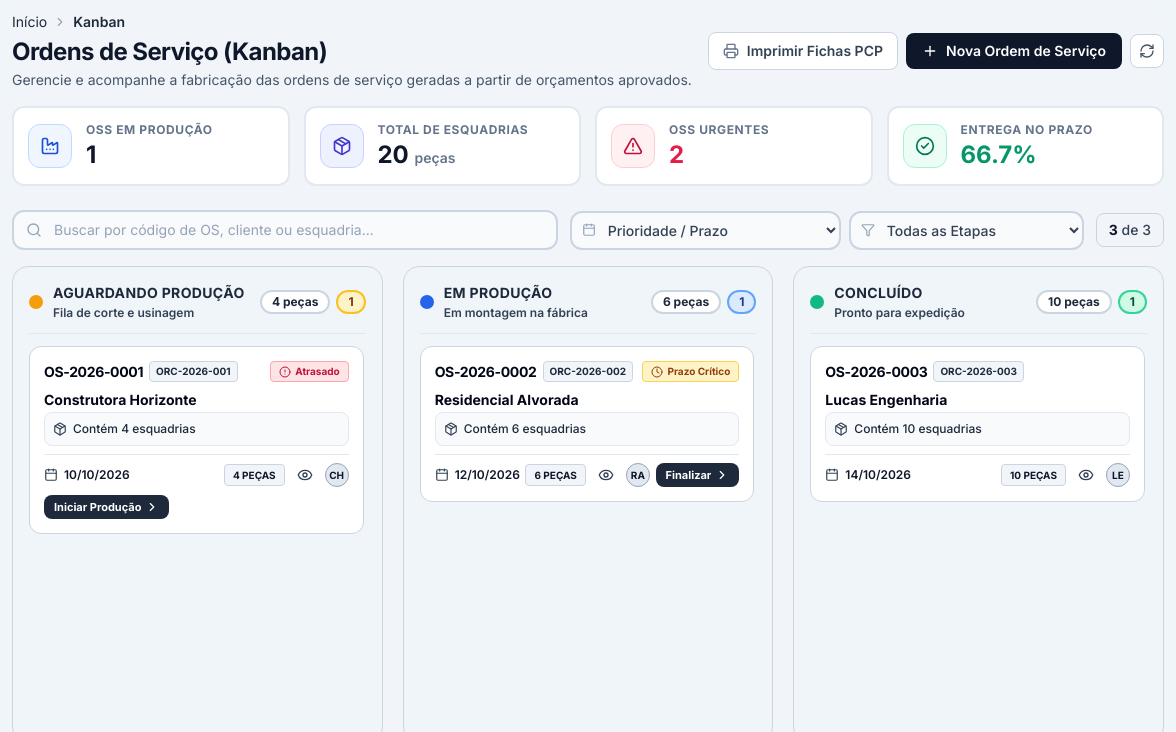
Scenario: ProductionKanbanPage Component (US-18.5) › deve filtrar ordens em tempo real pelo código da O.S.
Type "OS-2026-0001" into the field with test id "input-search-kanban" at (285, 230), box [12, 210, 558, 250]
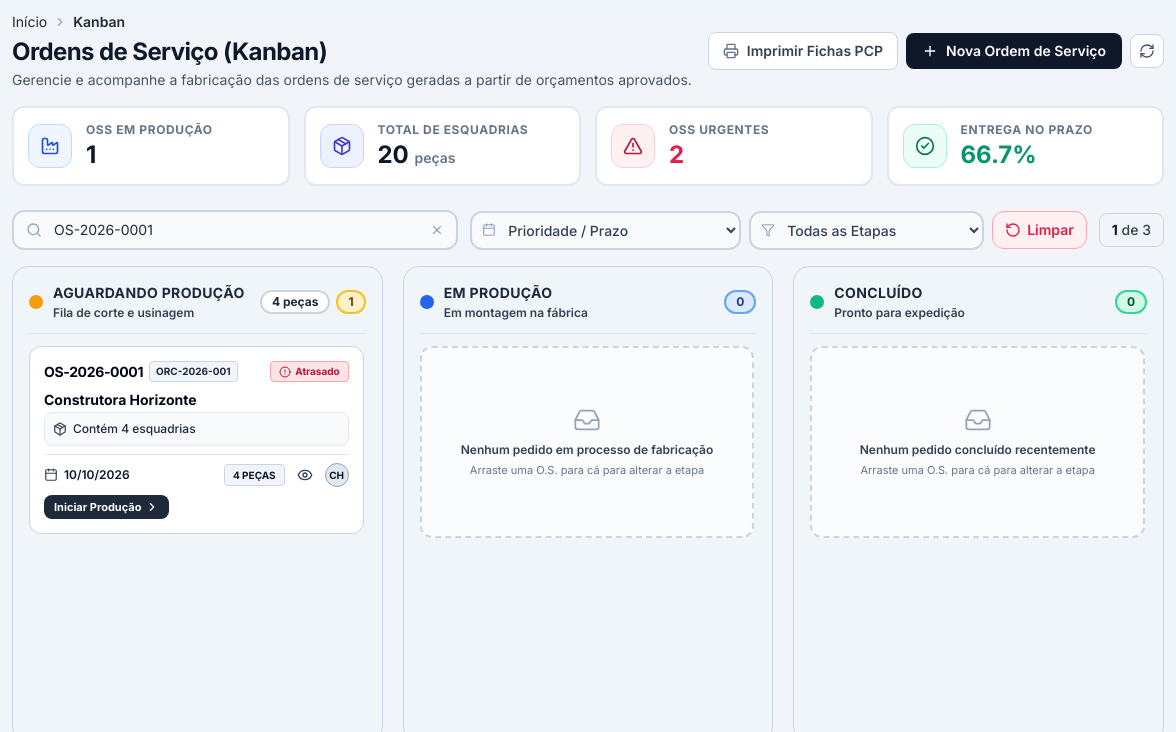
Expected: the text "OS-2026-0002" is gone
Expected: the text "OS-2026-0003" is gone
Expected: the element with test id "filter-counter-badge" reads "1 de 3", [1099, 213, 1164, 247]
